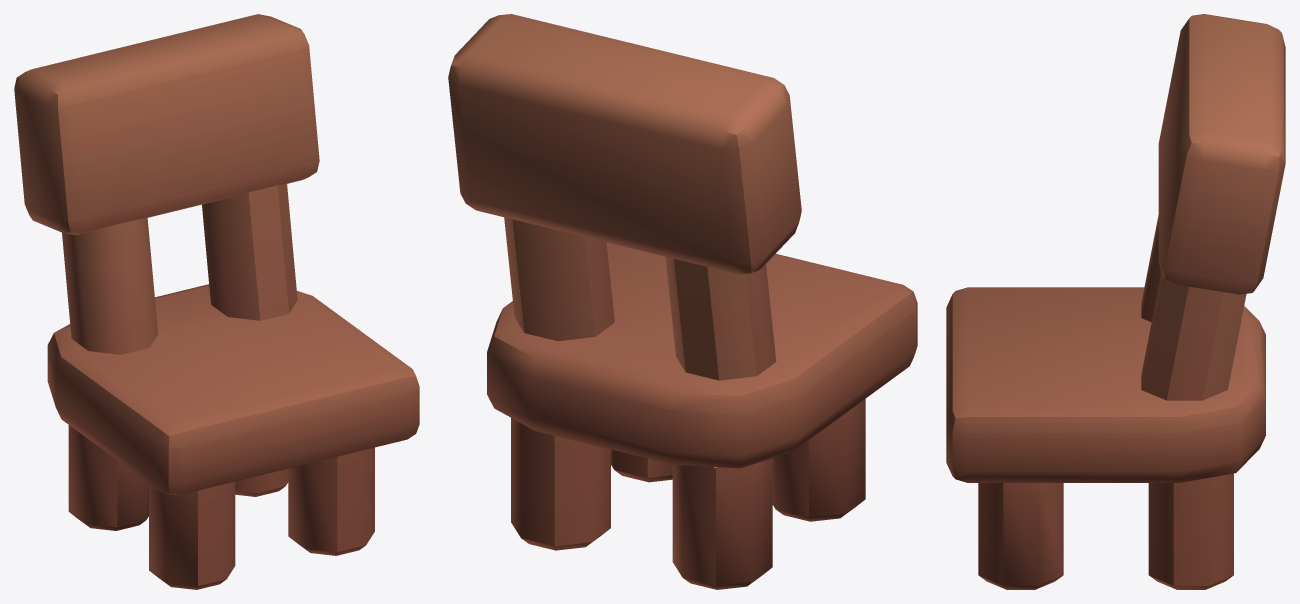
Rendered from kaykit-restaurant-bits-chair-b.glb.
The picture shows the model from 3 angles, left to right: view 1: azimuth 30°, elevation 25°; view 2: azimuth 150°, elevation 25°; view 3: azimuth 270°, elevation 25°; orthographic projection. The views are drawn at different scales.
Visible parts, largest first — view 1: chair_B; view 2: chair_B; view 3: chair_B.
Part boxes in pixels (x1,y1,x2,y2): chair_B: (14, 14, 419, 589); chair_B: (448, 14, 917, 589); chair_B: (946, 14, 1285, 589).
Size of the model in its own units: 0.75 by 1.21 by 0.7963.
Materials: 1 (1 with a texture image).
